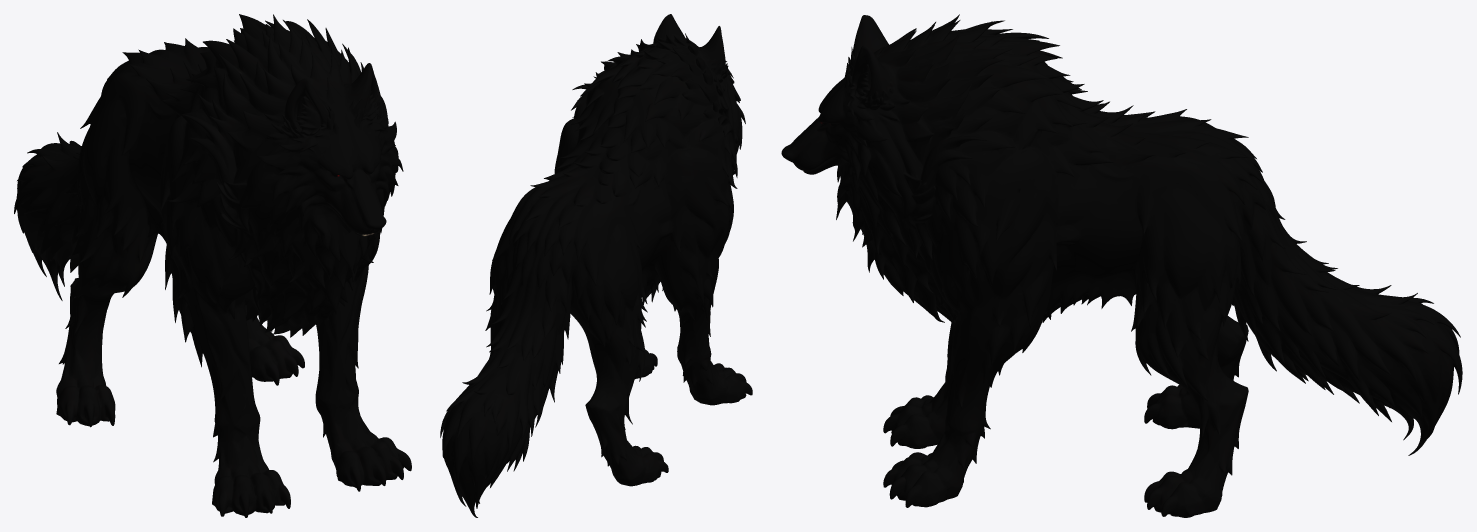
3 renders of one model, left to right at view 1: azimuth 30°, elevation 25°; view 2: azimuth 150°, elevation 25°; view 3: azimuth 270°, elevation 25°, orthographic. The views are drawn at different scales.
Visible parts, largest first — view 1: material; view 2: material; view 3: material.
Part boxes in pixels (x1=…): material: x1=14, y1=14, x2=411, y2=517; material: x1=440, y1=14, x2=752, y2=517; material: x1=781, y1=14, x2=1462, y2=517.
Size of the model in its own units: 0.4316 by 0.7904 by 1.09.
Materials: 1 (1 with a texture image).
